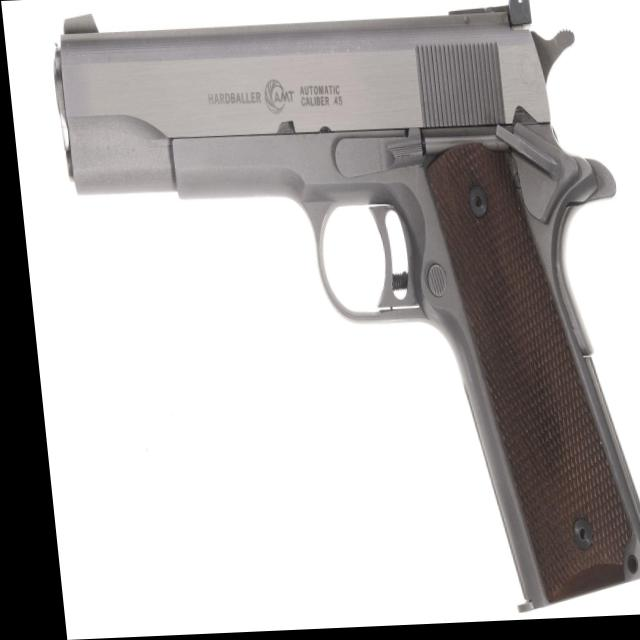handgun: (42, 0, 640, 623)
